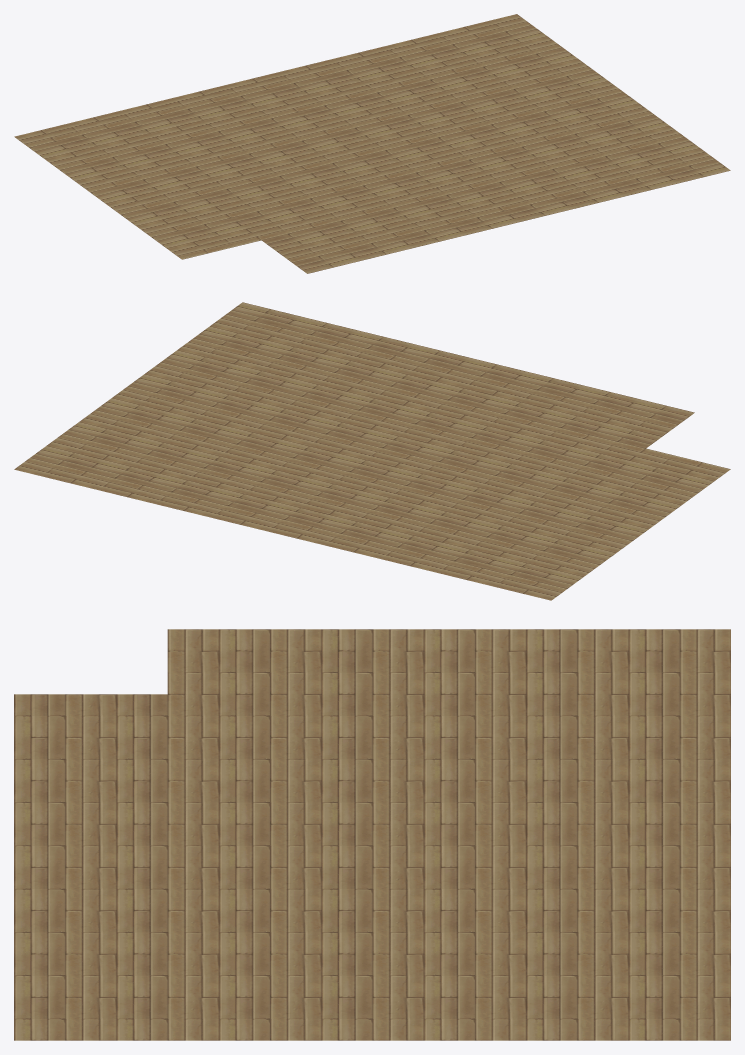
File: k1_floor02.FBX
3 views of the same model, one above another, from view 1: azimuth 30°, elevation 25°; view 2: azimuth 150°, elevation 25°; view 3: azimuth 270°, elevation 25° (orthographic). The views are drawn at different scales.
Parts seen in each view (by area): view 1: cs_db02; view 2: cs_db02; view 3: cs_db02.
Boxes of the visible parts, bbox=[...] form: cs_db02: bbox=[14, 14, 730, 273]; cs_db02: bbox=[14, 302, 730, 600]; cs_db02: bbox=[14, 629, 730, 1040].
Size of the model in its own units: 513 by 2.31e-14 by 378.
